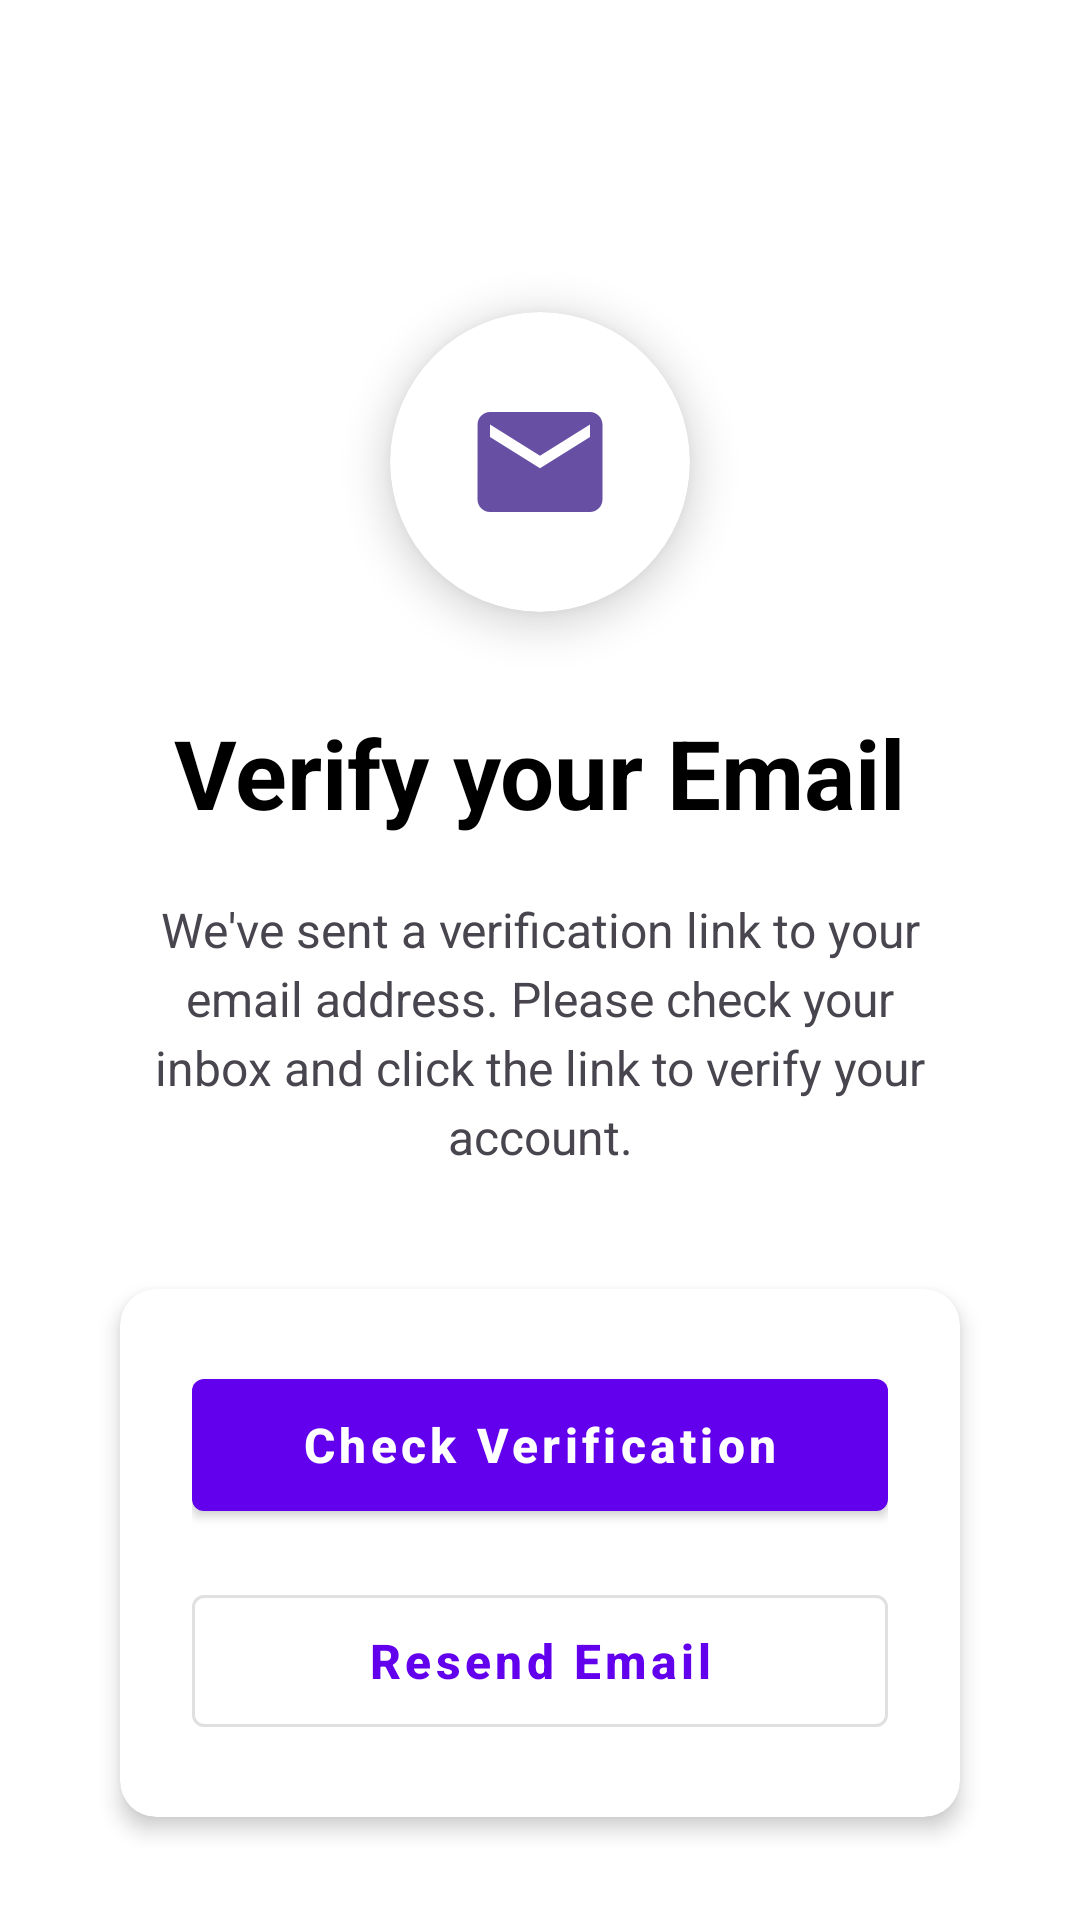

Named icons in this screenshot (1080px×1920px) and their centers, point (x, y):
Email verification icon: point (540, 462)
